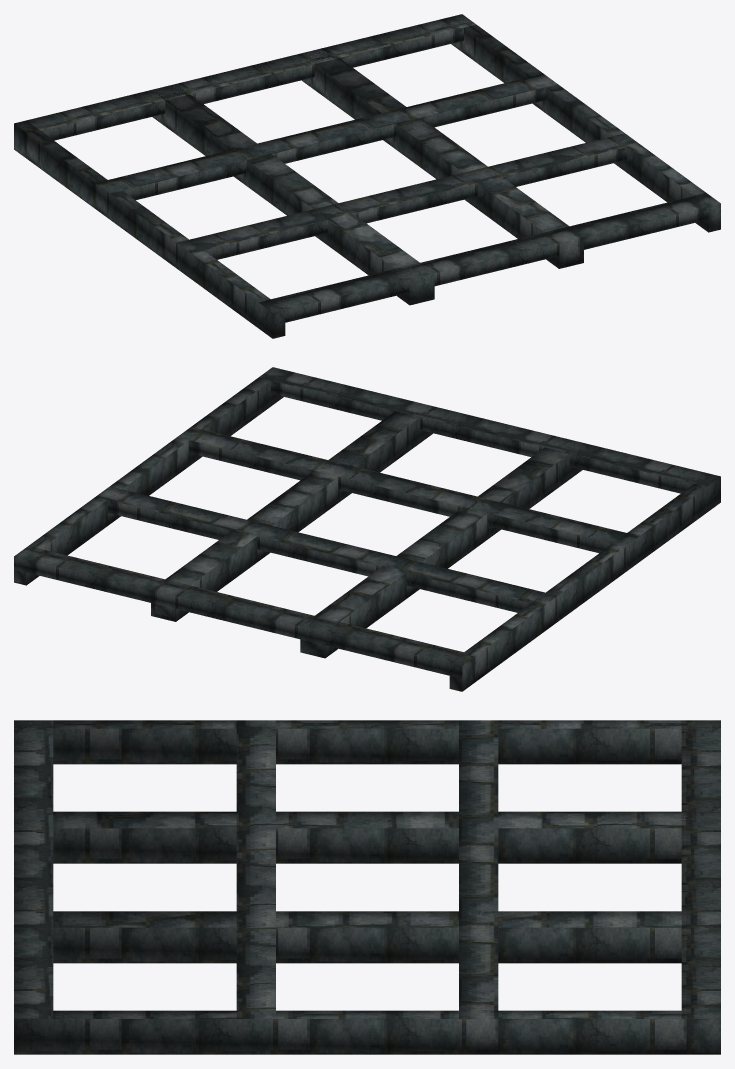
Rendered from dark stone roof decorations.glb.
3 renders of one model, top to bottom at view 1: azimuth 30°, elevation 25°; view 2: azimuth 150°, elevation 25°; view 3: azimuth 270°, elevation 25°, orthographic. The views are drawn at different scales.
Visible parts, largest first — view 1: Ceiling Beams, 9 x 9; view 2: Ceiling Beams, 9 x 9; view 3: Ceiling Beams, 9 x 9.
Boxes of the visible parts, x1,y1,x2,y2 form: Ceiling Beams, 9 x 9: [14, 14, 720, 338]; Ceiling Beams, 9 x 9: [14, 367, 720, 691]; Ceiling Beams, 9 x 9: [14, 720, 720, 1054].
Bounding box in the file's own units: 2.74 × 0.1524 × 2.74.
Materials: 1 (1 with a texture image).
